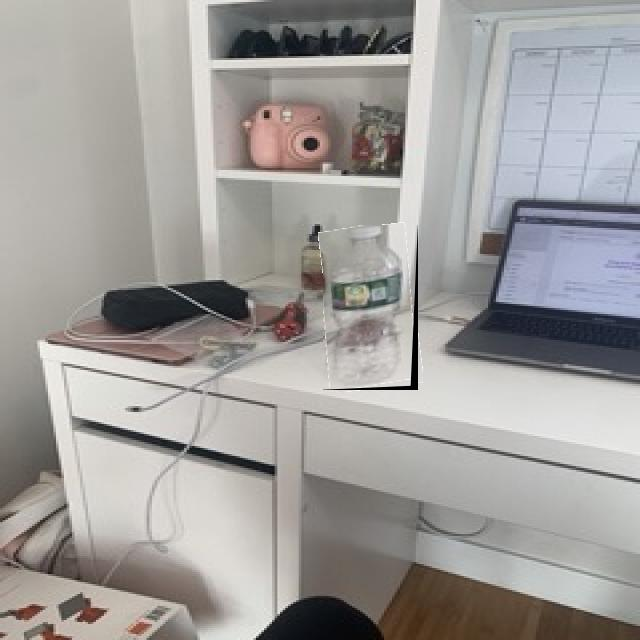water_bottle: (323, 225, 418, 390)
